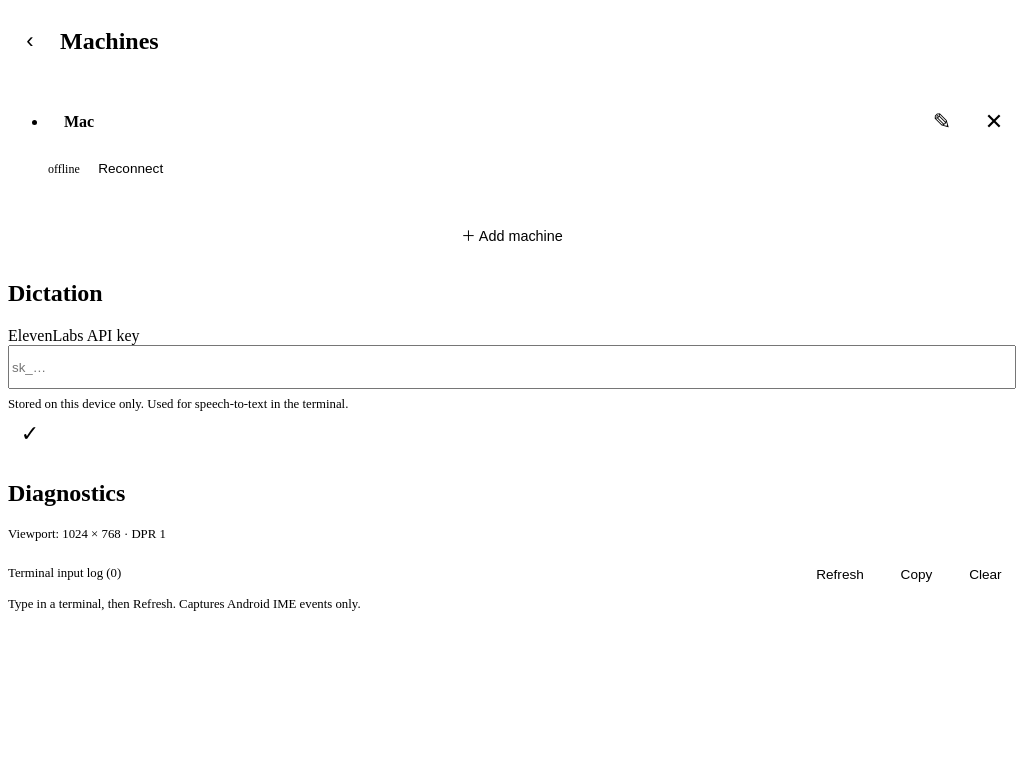
Test: Settings › reveals an edit form pre-filled with the current url and an empty token
Click the button named "edit" at coordinates (942, 122), box [920, 100, 964, 144]
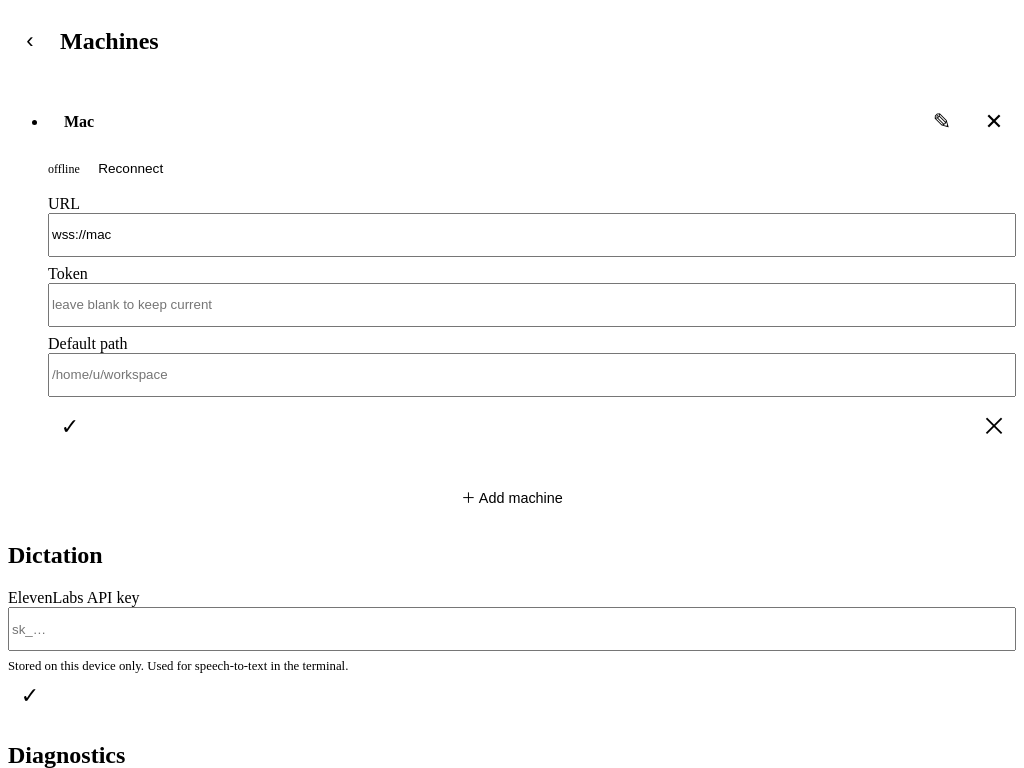
Expected: the field with test id "edit-url" holds "wss://mac", [48, 213, 1016, 257]
Expected: the password field with test id "edit-token" is empty, [48, 283, 1016, 327]
